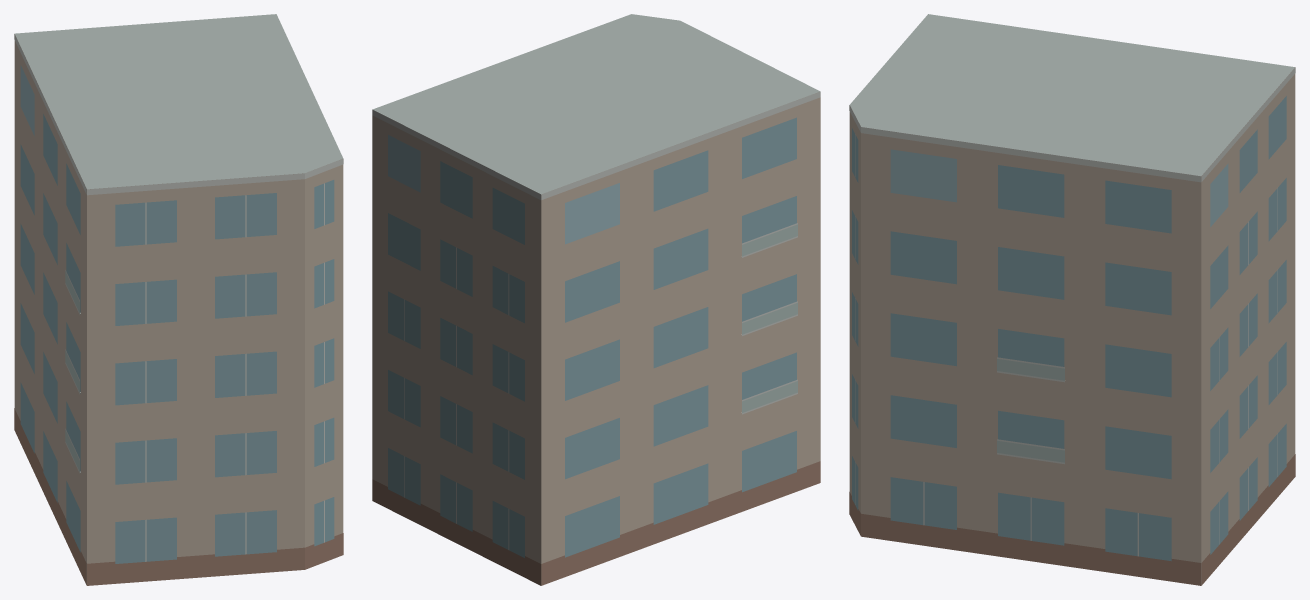
File: survey-upis-33045919.glb
3 views of the same model, side by side, from view 1: azimuth 30°, elevation 25°; view 2: azimuth 150°, elevation 25°; view 3: azimuth 270°, elevation 25° (orthographic). The views are drawn at different scales.
Visible parts, largest first — view 1: survey-upis-33045919.tmp; view 2: survey-upis-33045919.tmp; view 3: survey-upis-33045919.tmp.
Boxes of the visible parts, x1=… form: survey-upis-33045919.tmp: x1=14, y1=14, x2=343, y2=585; survey-upis-33045919.tmp: x1=372, y1=14, x2=820, y2=585; survey-upis-33045919.tmp: x1=849, y1=14, x2=1295, y2=585.
Bounding box in the file's own units: 13.86 × 16.3 × 16.09.
